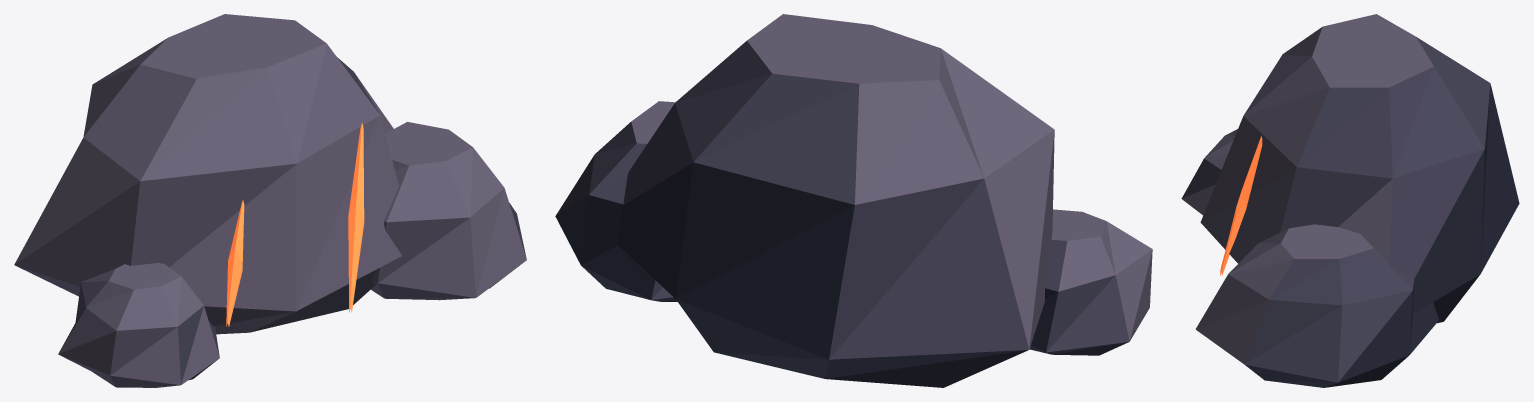
Rendered from RochaVulcanica.fbx.
3 renders of one model, left to right at view 1: azimuth 30°, elevation 25°; view 2: azimuth 150°, elevation 25°; view 3: azimuth 270°, elevation 25°, orthographic. The views are drawn at different scales.
Visible parts, largest first — view 1: RochaVulcanica_Solido_3, RochaVulcanica_Solido_2, RochaVulcanica_Folha_4; view 2: RochaVulcanica_Solido_2, RochaVulcanica_Solido_1, RochaVulcanica_Solido_3; view 3: RochaVulcanica_Solido_2, RochaVulcanica_Solido_3, RochaVulcanica_Solido_1, RochaVulcanica_Folha_4.
Boxes of the visible parts, x1,y1,x2,y2 form: RochaVulcanica_Solido_3: [14, 14, 526, 385]; RochaVulcanica_Solido_2: [15, 57, 526, 387]; RochaVulcanica_Folha_4: [226, 123, 364, 326]; RochaVulcanica_Solido_2: [556, 41, 1129, 359]; RochaVulcanica_Solido_1: [555, 162, 1128, 387]; RochaVulcanica_Solido_3: [631, 14, 1152, 349]; RochaVulcanica_Solido_2: [1181, 37, 1490, 382]; RochaVulcanica_Solido_3: [1182, 14, 1433, 364]; RochaVulcanica_Solido_1: [1245, 83, 1519, 387]; RochaVulcanica_Folha_4: [1220, 136, 1262, 275].
Bounding box in the file's own units: 581 × 290 × 379.
